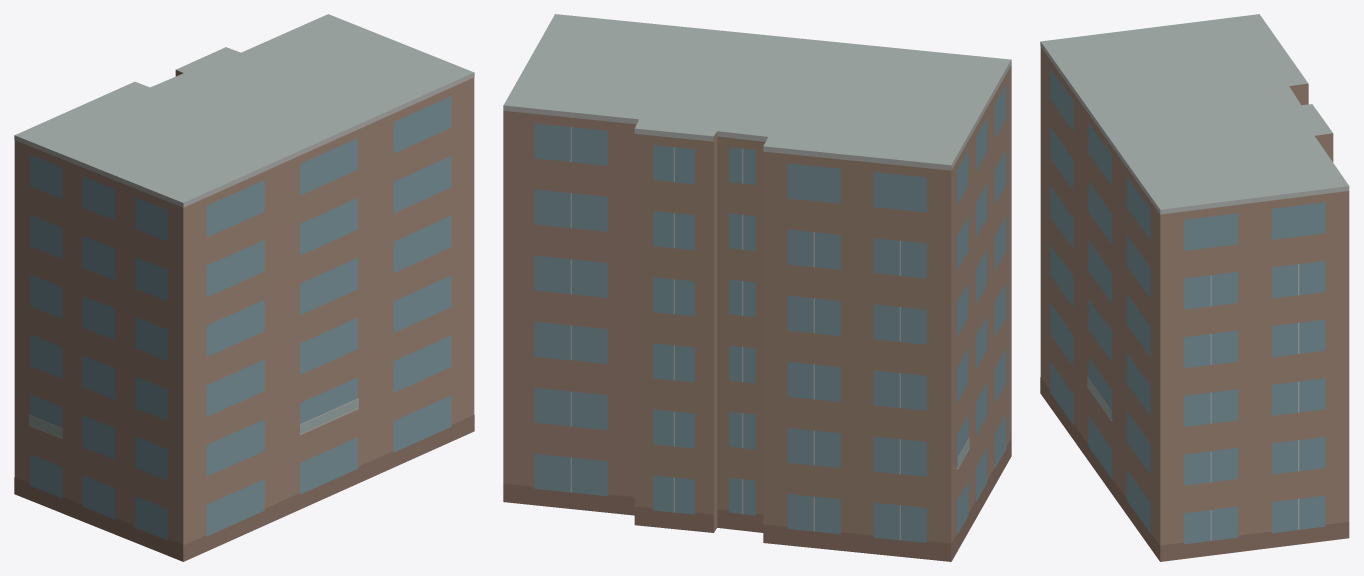
The model's file is survey-upis-32641920.glb.
The picture shows the model from 3 angles, left to right: view 1: azimuth 30°, elevation 25°; view 2: azimuth 150°, elevation 25°; view 3: azimuth 270°, elevation 25°; orthographic projection. The views are drawn at different scales.
Parts seen in each view (by area): view 1: survey-upis-32641920.tmp; view 2: survey-upis-32641920.tmp; view 3: survey-upis-32641920.tmp.
Boxes of the visible parts, x1,y1,x2,y2 form: survey-upis-32641920.tmp: [14, 14, 474, 561]; survey-upis-32641920.tmp: [503, 14, 1011, 561]; survey-upis-32641920.tmp: [1040, 14, 1349, 561].
Bounding box in the file's own units: 21.85 × 18.3 × 14.57.
